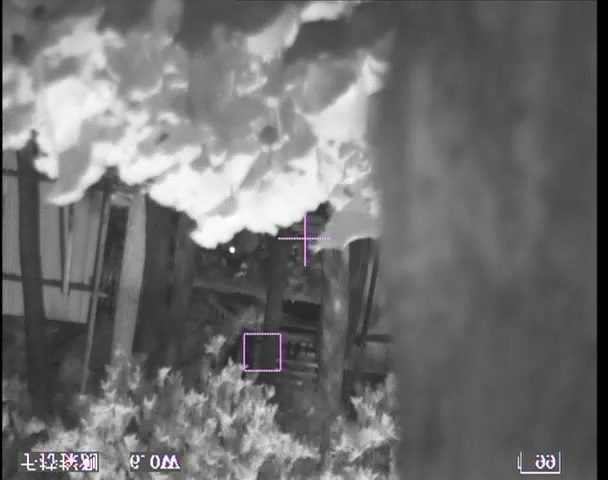my: (227, 245, 237, 255)
